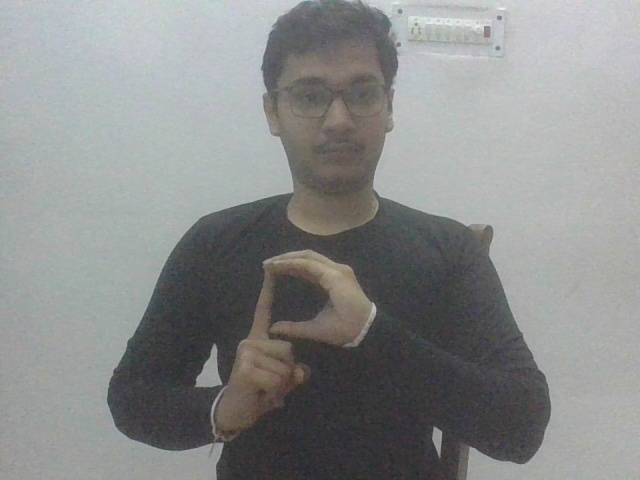D: (224, 243, 373, 436)
